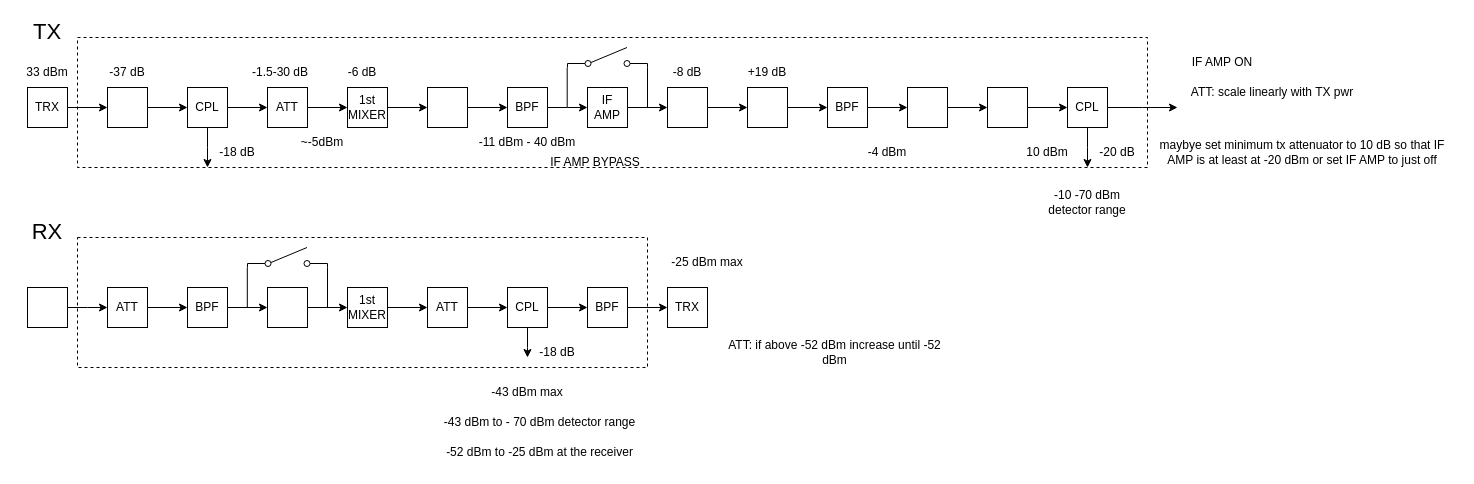
Some shapes in this 1474 by 484 pixel diagram are drawn without their labels. Each missing label, with the centre of its shape:
2nd MIXER: [687,107]
ATT BPF: [127,107]
ISO PA: [767,107]
LNB: [47,307]
LPF: [1007,107]
PRE PA: [927,107]
RX AMP: [287,307]
TRI PLEX: [447,107]
